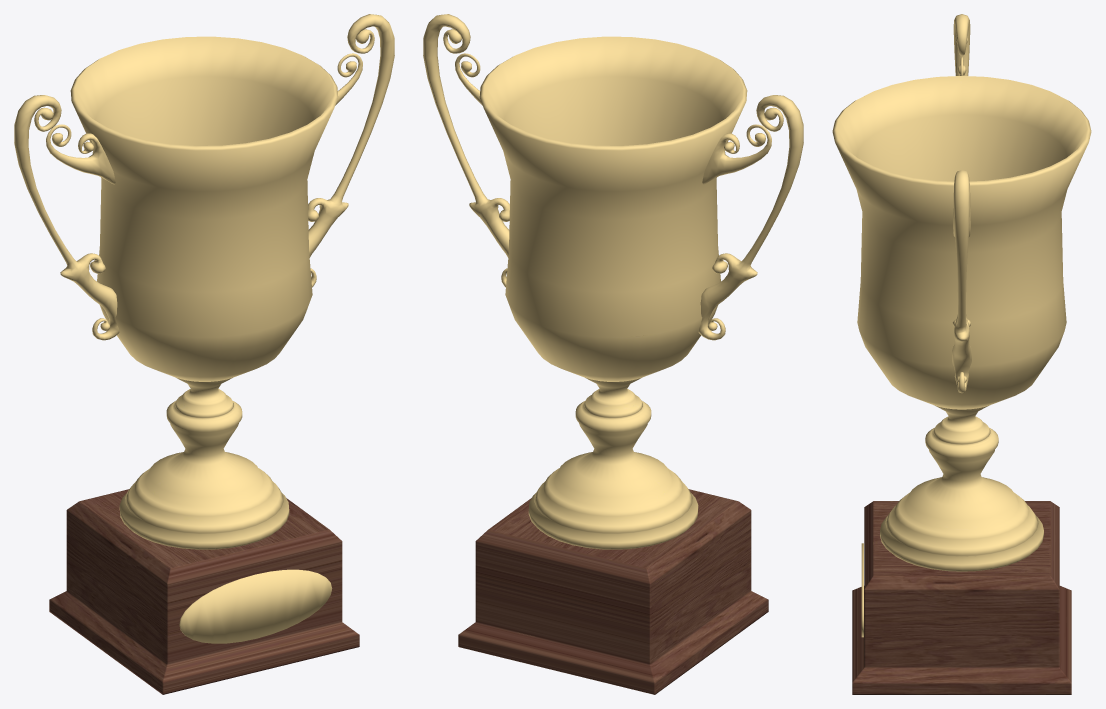
File: golden_trophy.glb
3 views of the same model, side by side, from view 1: azimuth 30°, elevation 25°; view 2: azimuth 150°, elevation 25°; view 3: azimuth 270°, elevation 25° (orthographic). The views are drawn at different scales.
Visible parts, largest first — view 1: trophy_0; view 2: trophy_0; view 3: trophy_0.
Boxes of the visible parts, box(x1,y1,x2,y2) form: trophy_0: box(14, 14, 394, 694); trophy_0: box(423, 14, 803, 694); trophy_0: box(832, 14, 1091, 694).
Size of the model in its own units: 3.12 by 4.52 by 1.91.
Materials: 1 (1 with a texture image).
